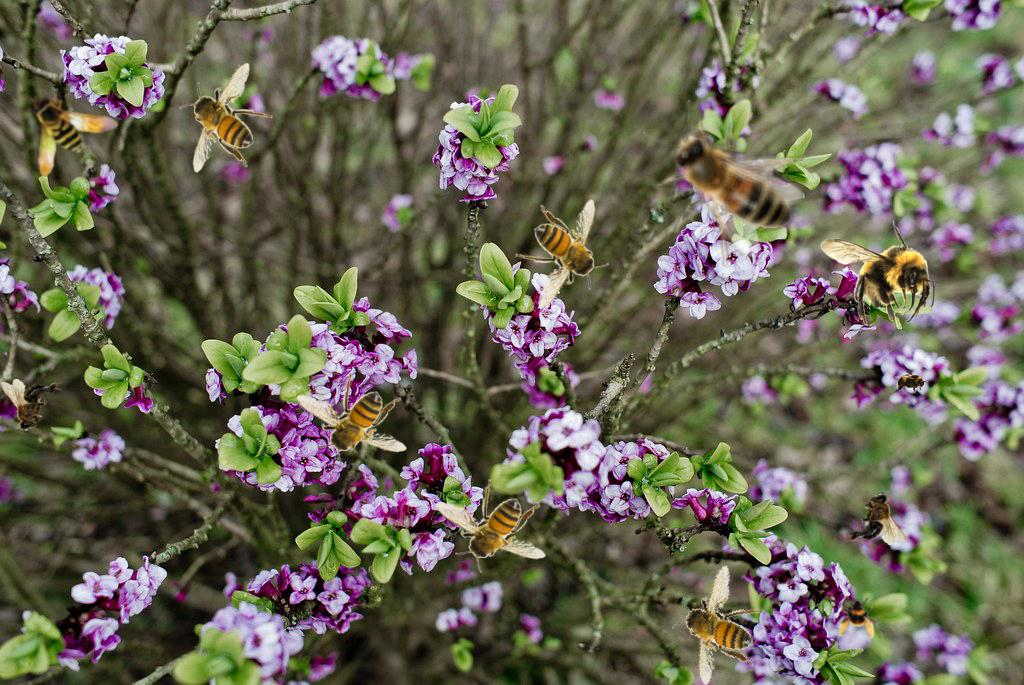Bee: (643, 100, 805, 267), (659, 557, 780, 685), (820, 220, 935, 327), (435, 479, 546, 573), (296, 372, 407, 466), (515, 199, 609, 310), (179, 62, 273, 173), (30, 93, 120, 177), (1, 379, 63, 432), (844, 492, 906, 545), (837, 595, 881, 639), (891, 372, 931, 394)
